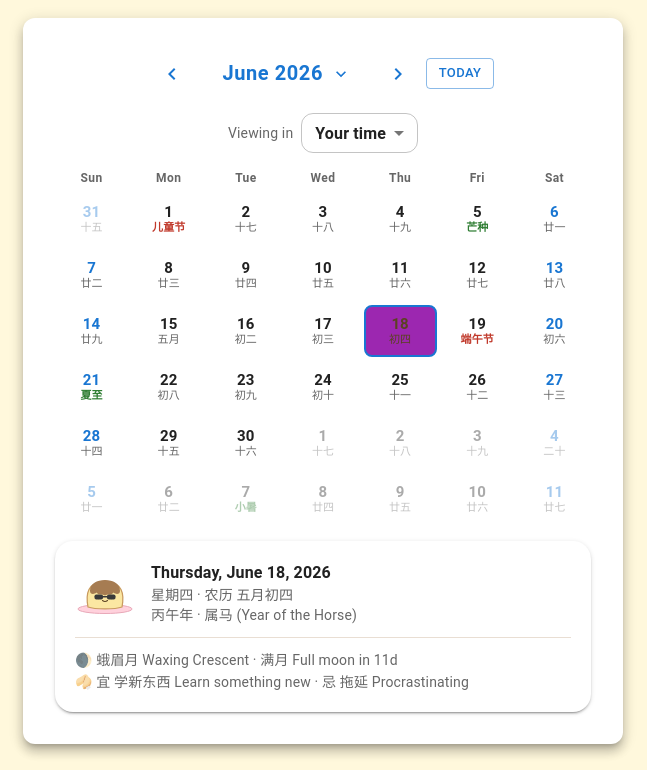
Test: Calendar › shows the solar term (节气) for the day it falls on
Note: 2026-06-21 is 夏至 (Summer Solstice) — in the default June view.
What coordinates should you click on to do the following:
click the button with aria-label "June 21, 2026"
I would click on:
 (92, 387)
Its box is [55,361,128,413].
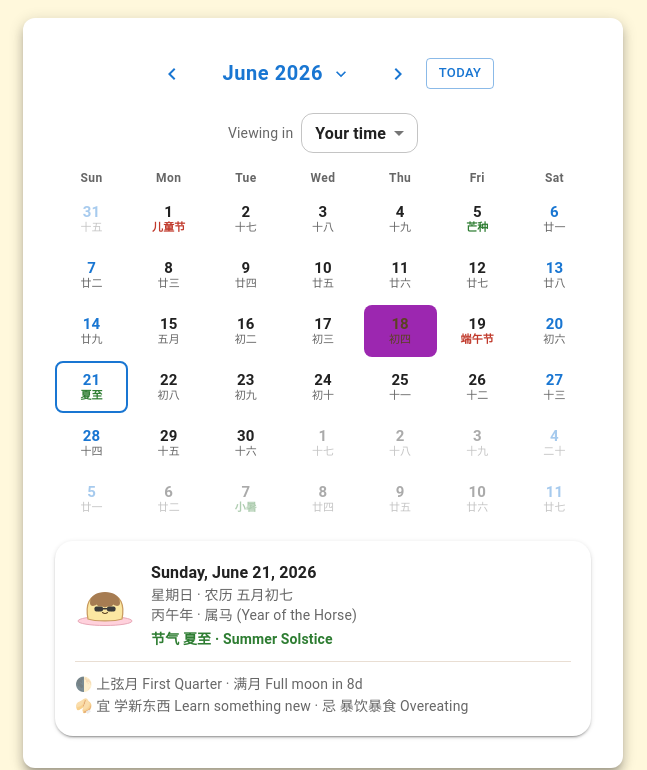
Expected: the text "节气 夏至 · Summer Solstice" is shown, [151,629,357,649]
